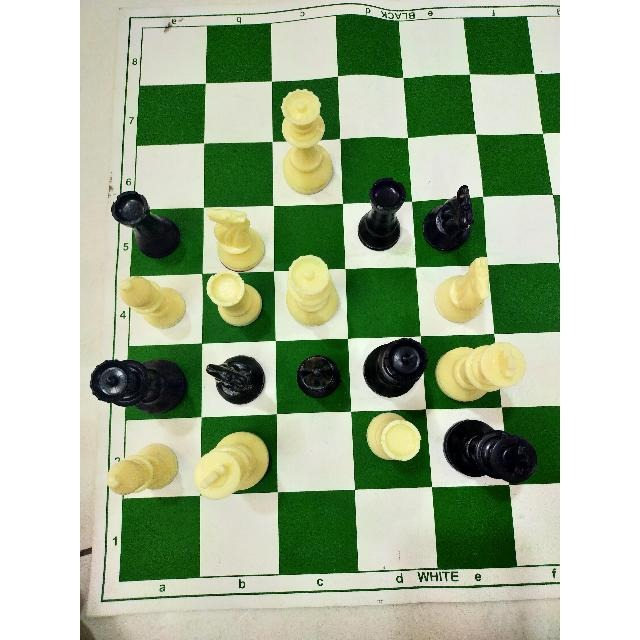black-king: (441, 419, 539, 485)
black-knight: (420, 181, 475, 253), (205, 353, 266, 405)
black-pawn: (296, 354, 340, 400)
black-queen: (88, 354, 189, 414), (362, 335, 428, 398)
black-rook: (110, 189, 181, 261), (357, 176, 406, 251)
white-bishop: (107, 443, 179, 495), (118, 276, 187, 330)
white-king: (191, 424, 273, 507), (431, 335, 527, 402)
white-knight: (205, 206, 267, 273), (434, 255, 491, 324)
white-queen: (277, 82, 339, 199), (283, 246, 342, 333)
white-rook: (358, 407, 428, 470), (201, 270, 269, 334)
